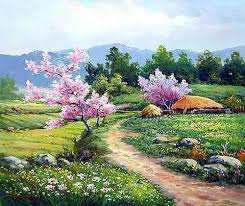field: (6, 103, 245, 204)
flower: (39, 55, 112, 151), (136, 68, 188, 112)
mountain: (3, 38, 245, 98)
sky: (1, 2, 245, 50)
tree: (33, 56, 109, 145), (137, 61, 182, 113)
